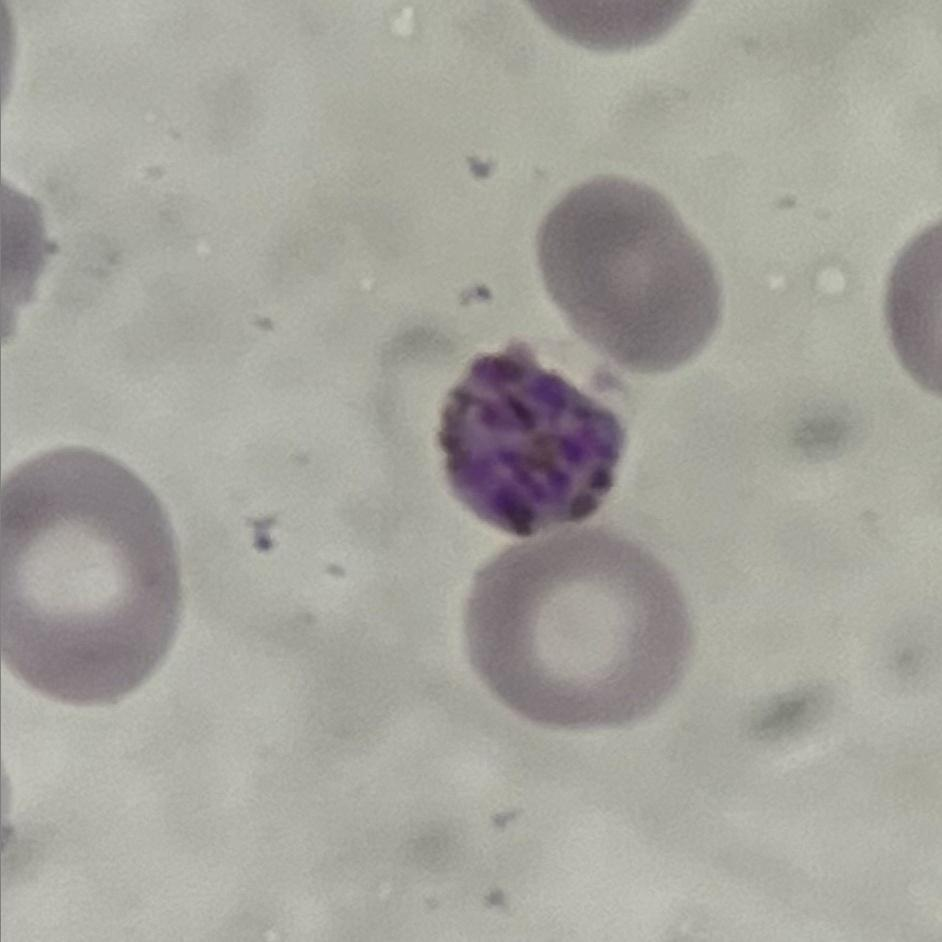Infected: (430, 338, 627, 542)
Uninfected: (0, 441, 187, 707), (465, 528, 697, 734), (533, 171, 728, 375)
